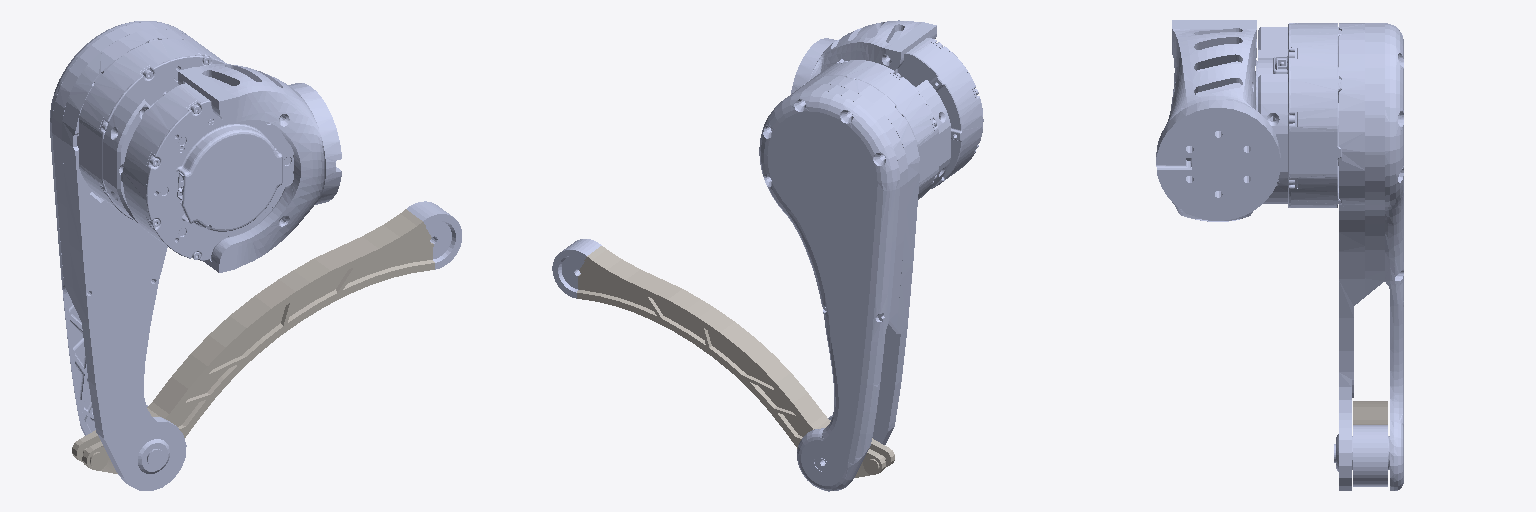
The robot description file, URDF, robot "RL_single_leg_slider":
<?xml version='1.0' encoding='utf-8'?>
<robot name="RL_single_leg_slider">
  <link name="rail_base">
    <inertial>
      <origin xyz="0 0 0" rpy="0 0 0" />
      <mass value="0.1" />
      <inertia ixx="0.001" ixy="0" ixz="0" iyy="0.001" iyz="0" izz="0.001" />
    </inertial>
  </link>
  <link name="slider_link">
    <inertial>
      <origin xyz="0 0 0" rpy="0 0 0" />
      <mass value="0.2" />
      <inertia ixx="0.001" ixy="0" ixz="0" iyy="0.001" iyz="0" izz="0.001" />
    </inertial>
  </link>
  <joint name="slider_z_joint" type="prismatic">
    <origin xyz="0 0 0.35" rpy="0 0 0" />
    <parent link="rail_base" />
    <child link="slider_link" />
    <axis xyz="0 0 1" />
    <limit lower="-0.30" upper="0.60" effort="100" velocity="5" />
  </joint>
  <link name="RL_hip">
    <visual>
      <origin xyz="0 0 0" rpy="0 0 0" />
      <geometry>
        <mesh filename="../custom_robot/meshes/RL_hip.STL" />
      </geometry>
      <material name="auto_material_10">
        <color rgba="0.79607843 0.82352941 0.93725490 1.00000000" />
      </material>
    </visual>
    <inertial>
      <origin xyz="-0.0473043 -0.0004014 -0.0000785" rpy="0 0 0" />
      <mass value="0.2903942" />
      <inertia ixx="0.0002169" ixy="0.000003" ixz="0.0000004" iyy="0.0003315" iyz="0" izz="0.000175" />
    </inertial>
  </link>
  <link name="RL_thigh">
    <visual>
      <origin xyz="0 0 0" rpy="0 0 0" />
      <geometry>
        <mesh filename="../custom_robot/meshes/RL_thigh.STL" />
      </geometry>
      <material name="auto_material_11">
        <color rgba="0.79607843 0.82352941 0.93725490 1.00000000" />
      </material>
    </visual>
    <inertial>
      <origin xyz="-0.0028225 0.0426963 -0.0252023" rpy="0 0 0" />
      <mass value="0.5536703" />
      <inertia ixx="0.0013035" ixy="0.0000011" ixz="0.0000788" iyy="0.0015743" iyz="0.0000081" izz="0.0002945" />
    </inertial>
  </link>
  <link name="RL_calf">
    <visual>
      <origin xyz="0 0 0" rpy="0 0 0" />
      <geometry>
        <mesh filename="../custom_robot/meshes/RL_calf.STL" />
      </geometry>
      <material name="auto_material_12">
        <color rgba="0.77647059 0.75686275 0.73725490 1.00000000" />
      </material>
    </visual>
    <inertial>
      <origin xyz="0.0095591 0.0000034 -0.0770108" rpy="0 0 0" />
      <mass value="0.0839255" />
      <inertia ixx="0.0003532" ixy="0" ixz="-0.0000119" iyy="0.0003585" iyz="0" izz="0.0000093" />
    </inertial>
  </link>
  <link name="RL_foot">
    <visual>
      <origin xyz="0 0 0" rpy="0 0 0" />
      <geometry>
        <mesh filename="../custom_robot/meshes/RL_foot.STL" />
      </geometry>
      <material name="auto_material_13">
        <color rgba="0.79607843 0.82352941 0.93725490 1.00000000" />
      </material>
    </visual>
    <collision>
      <origin xyz="-0.0000126 0 0.0118098" rpy="0 0 0" />
      <geometry>
        <sphere radius="0.014796" />
      </geometry>
    </collision>
    <inertial>
      <origin xyz="-0.0011417 0 0.0103123" rpy="0 0 0" />
      <mass value="0.0083244" />
      <inertia ixx="0.0000004" ixy="0" ixz="-0.0000001" iyy="0.0000009" iyz="0" izz="0.0000008" />
    </inertial>
  </link>
  <joint name="RL_hip_joint" type="revolute">
    <parent link="slider_link" />
    <child link="RL_hip" />
    <origin xyz="0.000000 0.000000 0.002513" rpy="0 0 0" />
    <axis xyz="1 0 0" />
    <limit lower="-0.35" upper="0.35" effort="8" velocity="10" />
  </joint>
  <joint name="RL_thigh_joint" type="revolute">
    <parent link="RL_hip" />
    <child link="RL_thigh" />
    <origin xyz="-0.0599992 0.0203992 0" rpy="0 0 0" />
    <axis xyz="0 1 0" />
    <limit lower="-0.2" upper="1.4" effort="8" velocity="10" />
  </joint>
  <joint name="RL_calf_joint" type="revolute">
    <parent link="RL_thigh" />
    <child link="RL_calf" />
    <origin xyz="0 0.05865 -0.1940135" rpy="0 0 0" />
    <axis xyz="0 1 0" />
    <limit lower="-2.8" upper="-1.2" effort="8" velocity="10" />
  </joint>
  <joint name="RL_foot_joint" type="fixed">
    <parent link="RL_calf" />
    <child link="RL_foot" />
    <origin xyz="0 0 -0.21" rpy="0 0 0" />
  </joint>
</robot>

--- What the picture shows (computed from the rendered views, not written in the file) ---
The picture shows the robot from 3 angles, left to right: view 1: azimuth 30°, elevation 25°; view 2: azimuth 150°, elevation 25°; view 3: azimuth 270°, elevation 25°; orthographic projection.
Model RL_single_leg_slider with 6 links and 5 joints (3 revolute, 1 prismatic, 1 fixed), rooted at rail_base, posed all joints at 0 but 1 set to mid-range because 0 is outside their limits (RL_calf_joint = -2).
Links seen in each view (by area): view 1: RL_thigh, RL_hip, RL_calf, RL_foot; view 2: RL_thigh, RL_calf, RL_hip, RL_foot; view 3: RL_thigh, RL_hip, RL_foot, RL_calf.
Link boxes in pixels (left/top/right/bottom): RL_thigh: left=50, top=21, right=226, bottom=490; RL_hip: left=121, top=64, right=341, bottom=272; RL_calf: left=72, top=209, right=434, bottom=473; RL_foot: left=407, top=201, right=461, bottom=269; RL_thigh: left=759, top=59, right=950, bottom=491; RL_calf: left=577, top=246, right=894, bottom=477; RL_hip: left=791, top=20, right=983, bottom=188; RL_foot: left=552, top=239, right=601, bottom=298; RL_thigh: left=1258, top=23, right=1403, bottom=490; RL_hip: left=1156, top=20, right=1280, bottom=221; RL_foot: left=1353, top=425, right=1387, bottom=486; RL_calf: left=1353, top=401, right=1387, bottom=424.
Bounding box of the posed robot: 0.2406 × 0.129 × 0.2658 m (x, y, z).
Meshes: 4 distinct files referenced, 4 mesh visuals loaded (4 binary STL).
